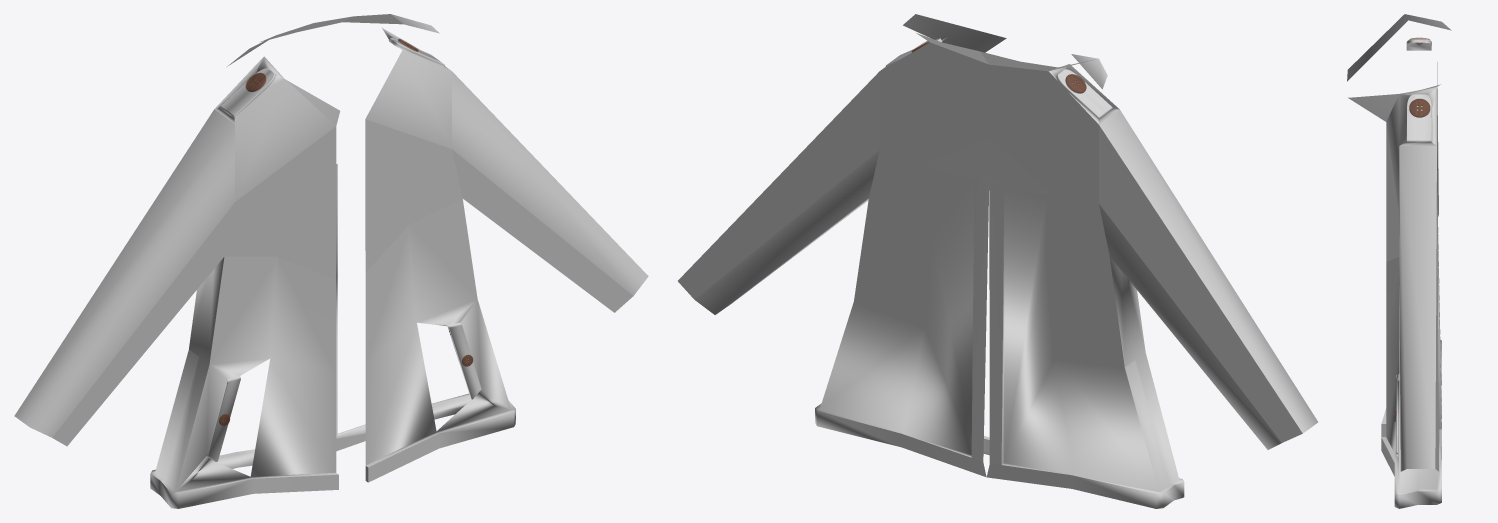
The model's file is Jacket.gltf.
3 views of the same model, side by side, from view 1: azimuth 30°, elevation 25°; view 2: azimuth 150°, elevation 25°; view 3: azimuth 270°, elevation 25° (orthographic). The views are drawn at different scales.
Parts seen in each view (by area): view 1: Casaco_Plane; view 2: Casaco_Plane; view 3: Casaco_Plane.
Boxes of the visible parts, x1,y1,x2,y2 form: Casaco_Plane: (14, 14, 648, 508); Casaco_Plane: (678, 14, 1318, 508); Casaco_Plane: (1347, 14, 1451, 508).
Bounding box in the file's own units: 8.63 × 5.78 × 1.82.
